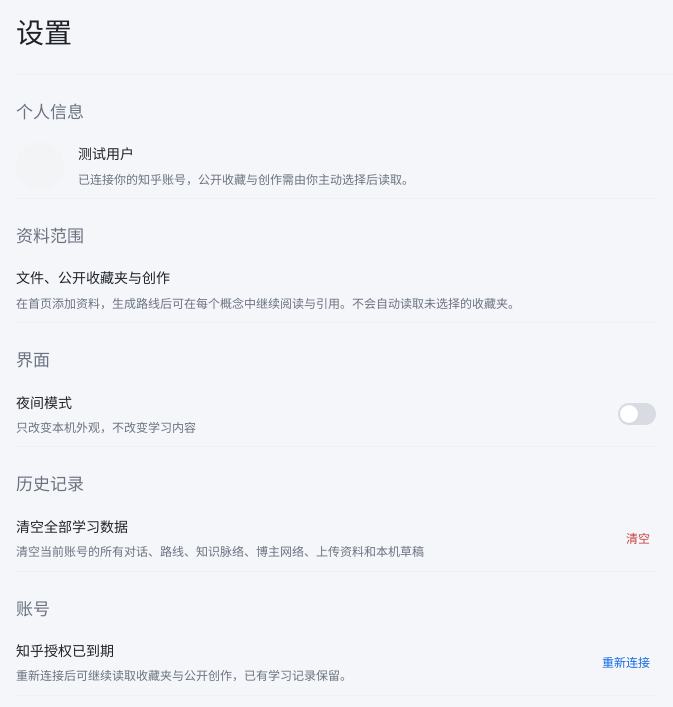
it: expired OAuth account can reconnect from settings; guest sees no OAuth entry
The width and height of the screenshot is (673, 707).
Expected: the text "知乎授权已到期" is shown, 16,642 -> 114,659
Click the button "重新连接".
click(626, 663)  # box 596,652 -> 656,673
(page scrolled)
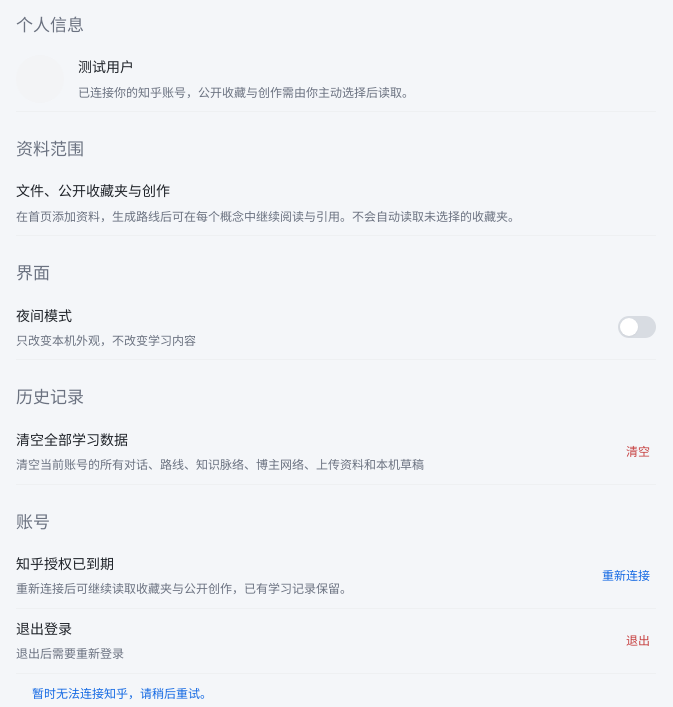
Expected: the text "暂时无法连接知乎，请稍后重试。" is shown, 32,686 -> 212,701
